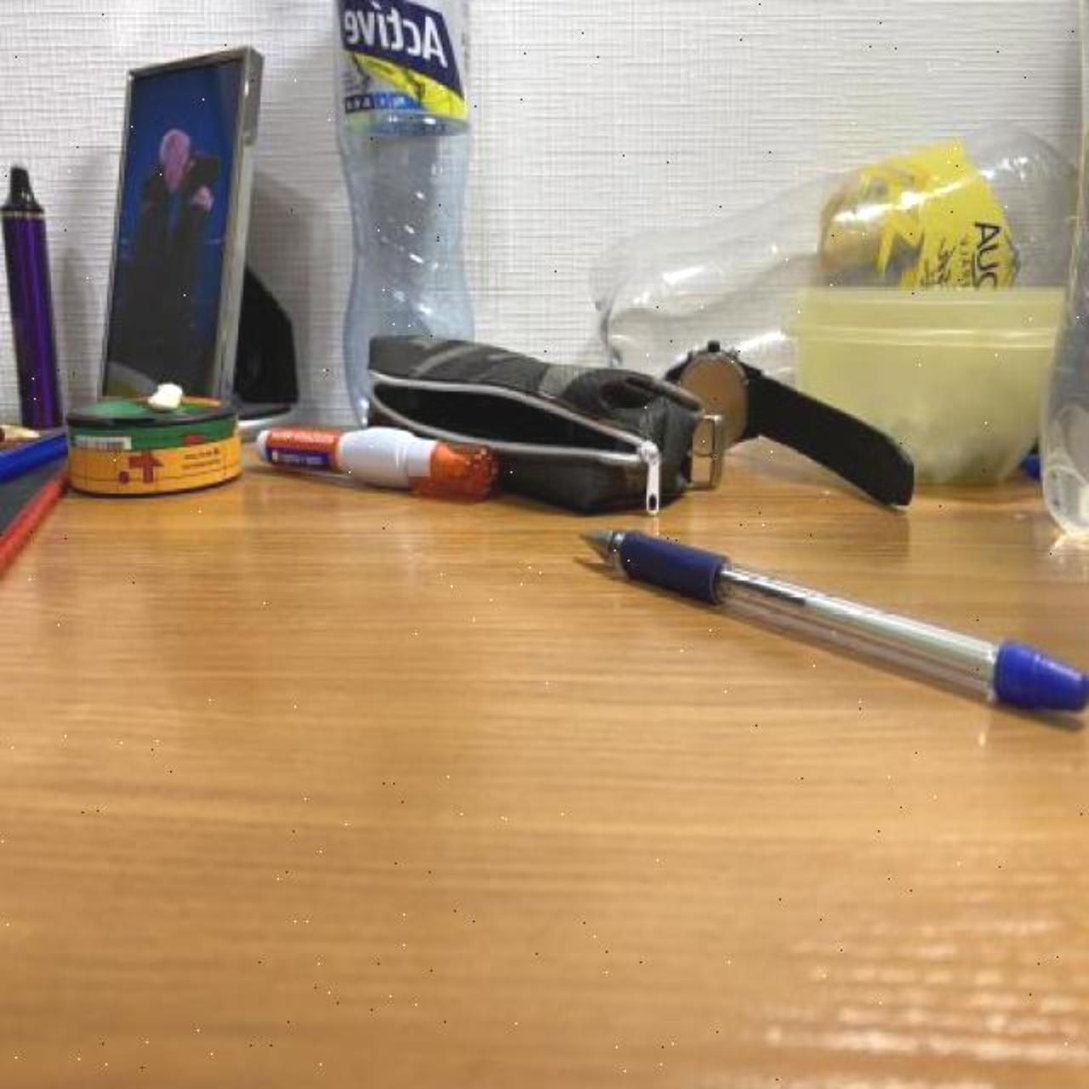pen: (573, 524, 1087, 718)
